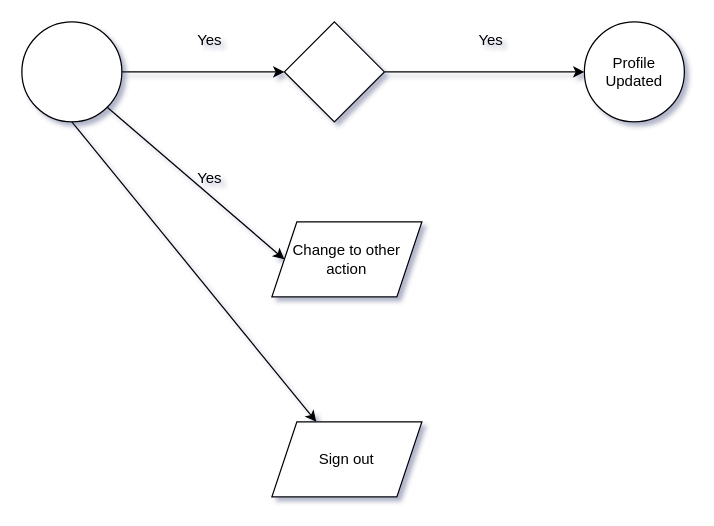
Image size: 714x526. Some labels were removed from this diagram. The box of each missing label's shape, as (x1, y1, x2, y2) in pixels:
Edit Profile: (283, 21, 384, 122)
Profile: (21, 21, 122, 122)
